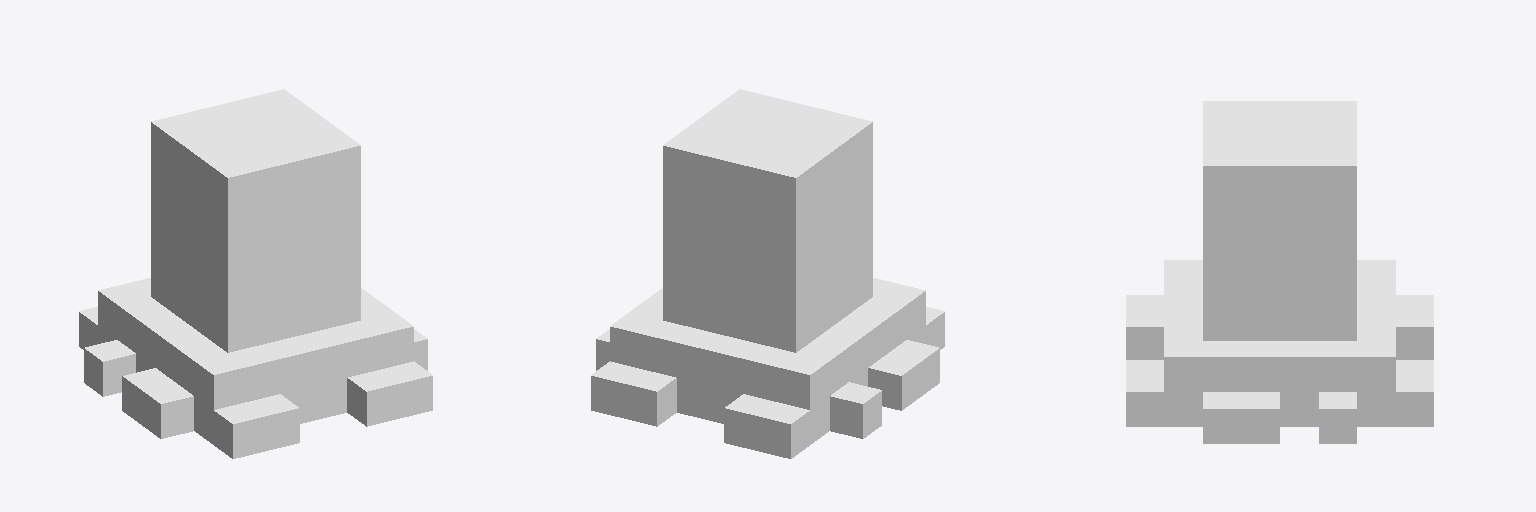
File: Trees-3.obj
3 views of the same model, side by side, from view 1: azimuth 30°, elevation 25°; view 2: azimuth 150°, elevation 25°; view 3: azimuth 270°, elevation 25° (orthographic).
Visible parts, largest first — view 1: object 1; view 2: object 1; view 3: object 1.
Part boxes in pixels (bbox=[...]): object 1: bbox=[79, 89, 432, 458]; object 1: bbox=[591, 89, 944, 458]; object 1: bbox=[1126, 101, 1433, 443].
Size of the model in its own units: 0.8 by 0.7 by 0.8.